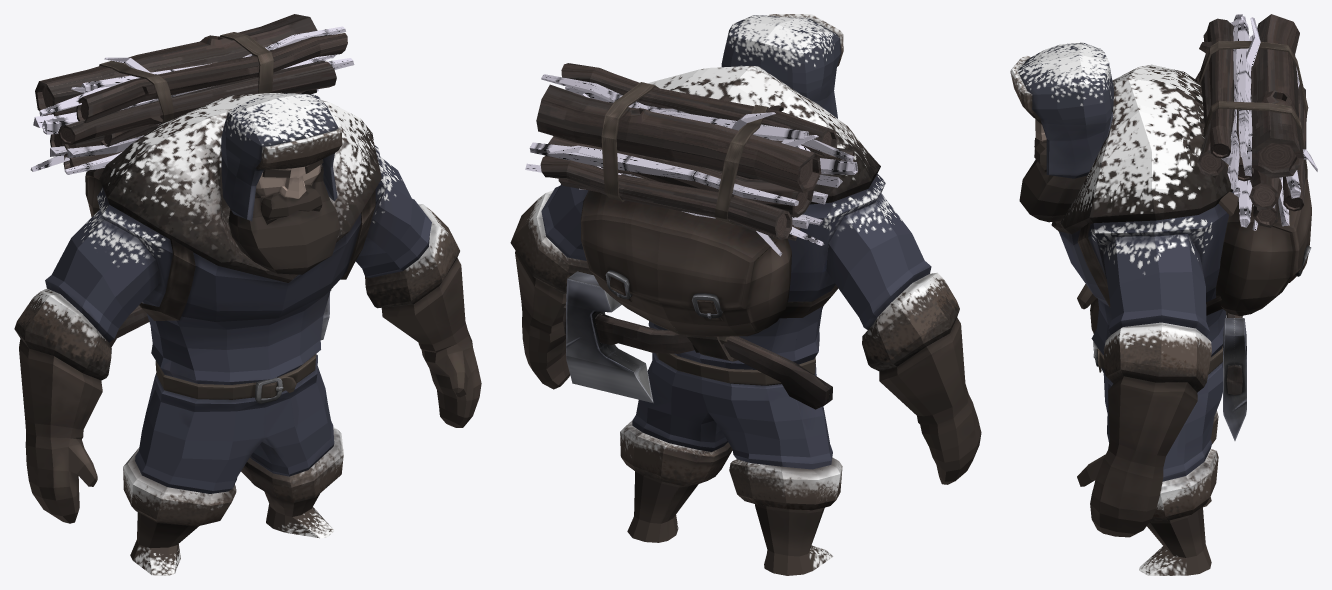
The model's file is test_pour_jeremy.fbx.
The picture shows the model from 3 angles, left to right: view 1: azimuth 30°, elevation 25°; view 2: azimuth 150°, elevation 25°; view 3: azimuth 270°, elevation 25°; orthographic projection.
Parts seen in each view (by area): view 1: Personnage.001, Cylinder.047, Cylinder.042, Cylinder.037, Sac.001, branche.015, Sangle_gauche_fagot.002, Sangle_droite_fagot.002, Hache.004, branche.013, Cylinder.038; view 2: Personnage.001, Sac.001, Hache.004, Cylinder.042, Cylinder.040, Cylinder.047, branche.014, Cylinder.036, branche.015, Sangle_gauche_fagot.002, Sangle_droite_fagot.002, Cylinder.046 (+2 smaller); view 3: Personnage.001, Sac.001, Cylinder.042, Cylinder.047, Hache.004, branche.015, Cylinder.037, Sangle_gauche_fagot.002, Sangle_droite_fagot.002, Cylinder.036, Cylinder.040, branche.012 (+5 smaller).
Part boxes in pixels (x1,y1,x2,y2): Personnage.001: [14, 92, 481, 575]; Cylinder.047: [76, 33, 347, 123]; Cylinder.042: [35, 14, 317, 116]; Cylinder.037: [58, 61, 336, 144]; Sac.001: [85, 167, 375, 320]; branche.015: [81, 26, 345, 93]; Sangle_gauche_fagot.002: [220, 32, 273, 93]; Sangle_droite_fagot.002: [99, 60, 174, 125]; Hache.004: [109, 289, 331, 347]; branche.013: [42, 58, 354, 134]; Cylinder.038: [67, 135, 144, 157]; Personnage.001: [510, 14, 981, 575]; Sac.001: [580, 176, 838, 336]; Hache.004: [563, 271, 832, 409]; Cylinder.042: [536, 84, 821, 192]; Cylinder.040: [540, 155, 792, 240]; Cylinder.047: [561, 63, 837, 156]; branche.014: [529, 142, 798, 205]; Cylinder.036: [548, 136, 814, 217]; branche.015: [541, 74, 808, 139]; Sangle_gauche_fagot.002: [601, 82, 658, 201]; Sangle_droite_fagot.002: [714, 105, 768, 225]; Cylinder.046: [565, 87, 854, 173]; Personnage.001: [1010, 42, 1233, 575]; Sac.001: [1077, 178, 1311, 316]; Cylinder.042: [1251, 14, 1303, 178]; Cylinder.047: [1199, 18, 1234, 158]; Hache.004: [1223, 312, 1246, 440]; branche.015: [1236, 17, 1260, 157]; Cylinder.037: [1195, 31, 1225, 176]; Sangle_gauche_fagot.002: [1203, 100, 1307, 178]; Sangle_droite_fagot.002: [1199, 41, 1308, 121]; Cylinder.036: [1249, 169, 1282, 209]; Cylinder.040: [1283, 84, 1306, 211]; branche.012: [1238, 180, 1258, 230].
Bounding box in the file's own units: 190 × 200 × 117.
